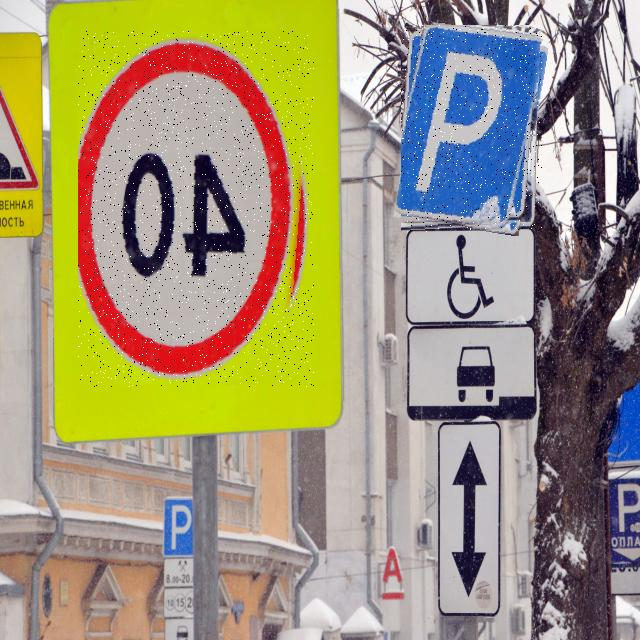parking: (401, 25, 542, 232)
speed limit 40: (78, 31, 314, 388)
